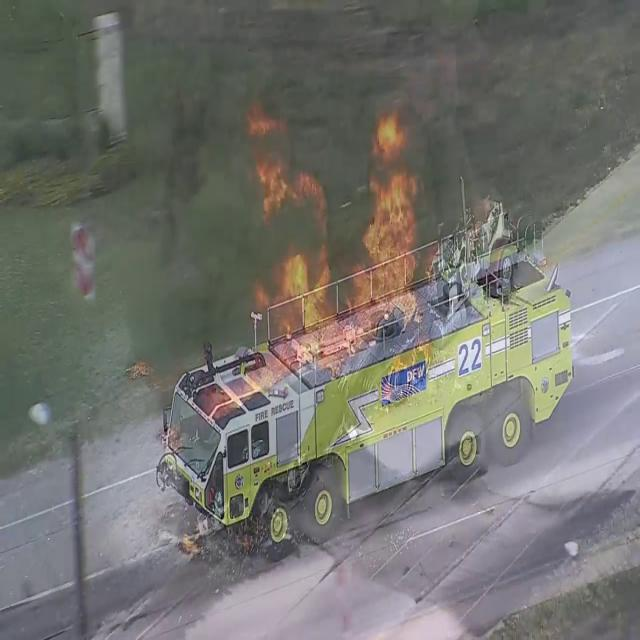Fire: (245, 113, 431, 354)
